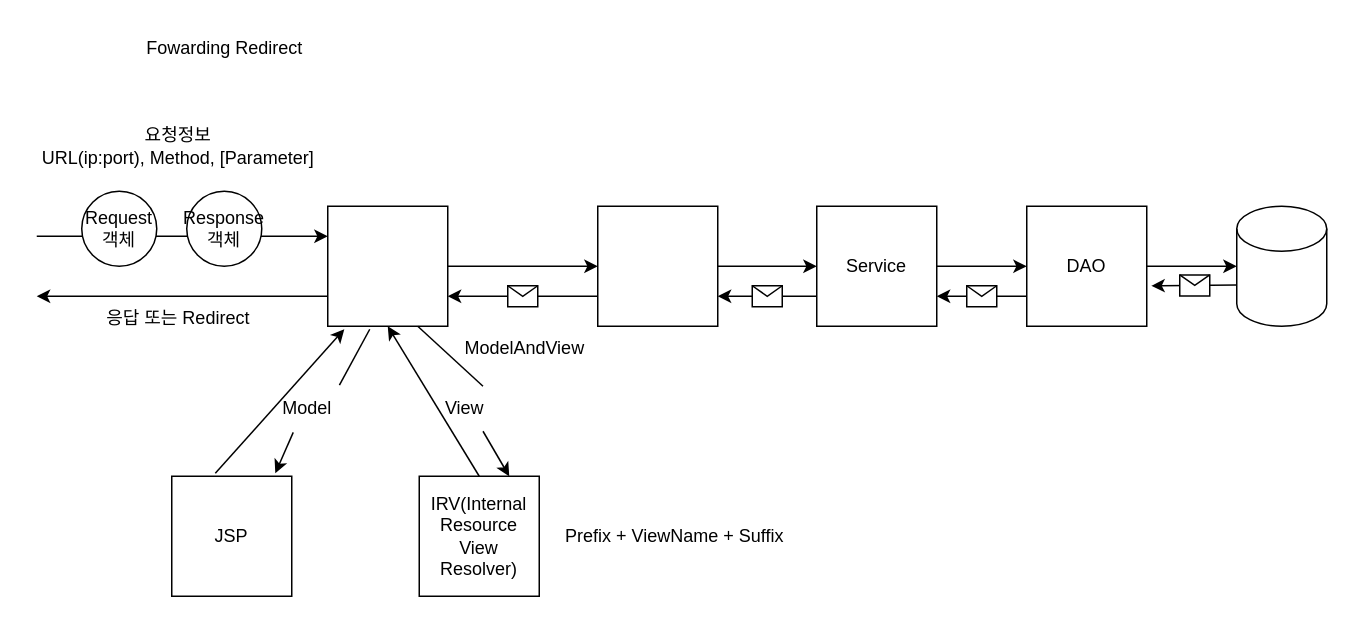
The diagram is 1353 pixels wide and 623 high, and some of its shapes have lost their labels. Each missing label, with the centre of its shape:
Controller: the point at 657,265
DB: the point at 1281,265
Dispatcher Servlet(D.S.): the point at 387,265
